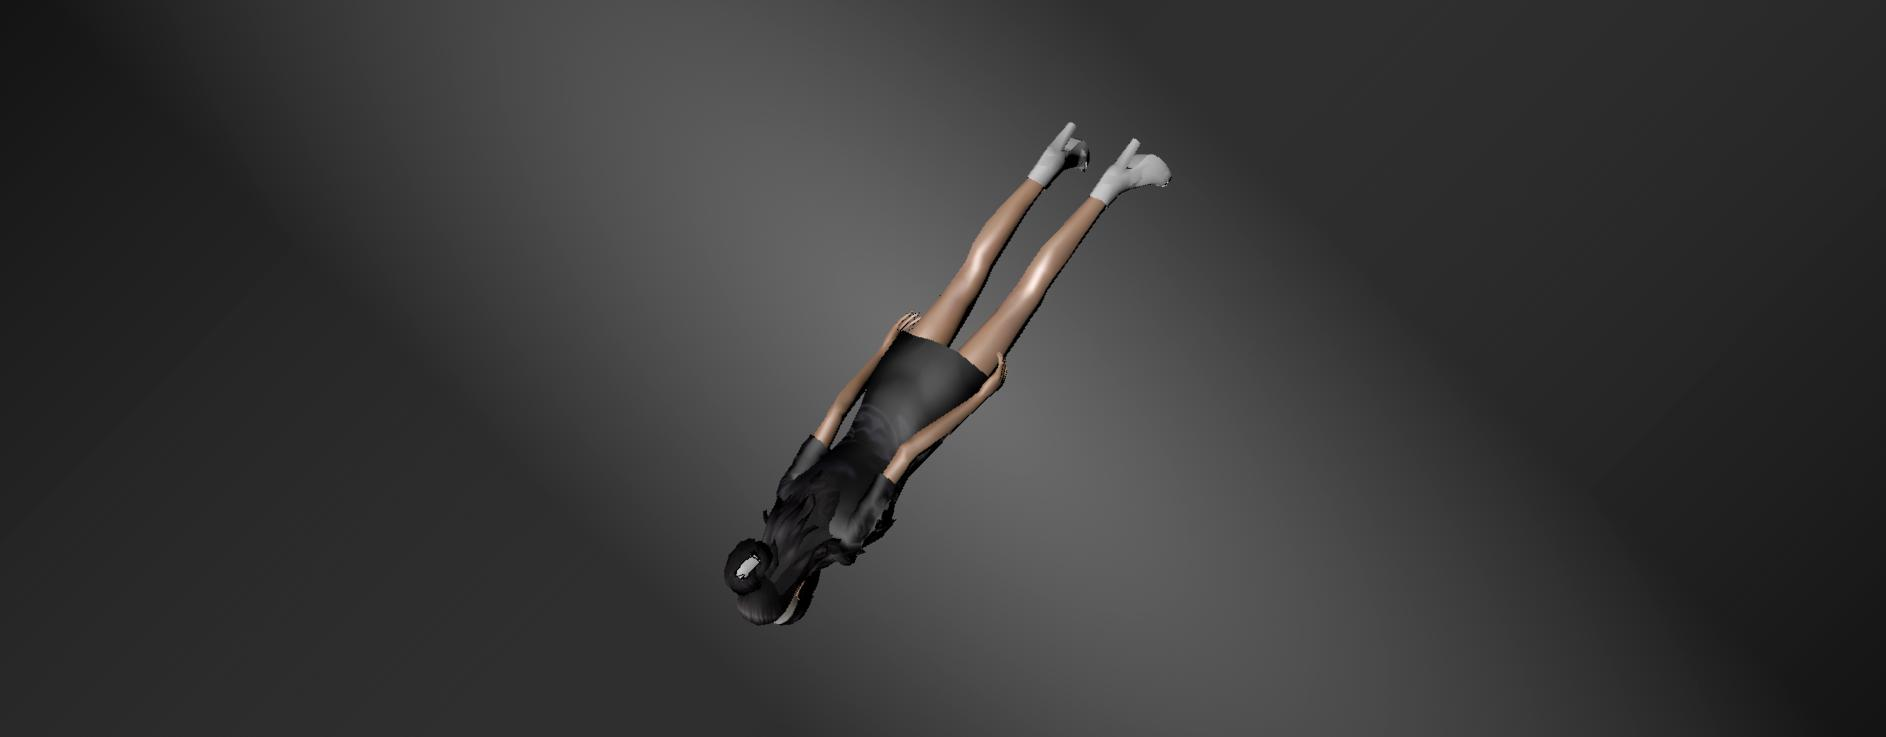clip: (731, 554, 765, 583)
